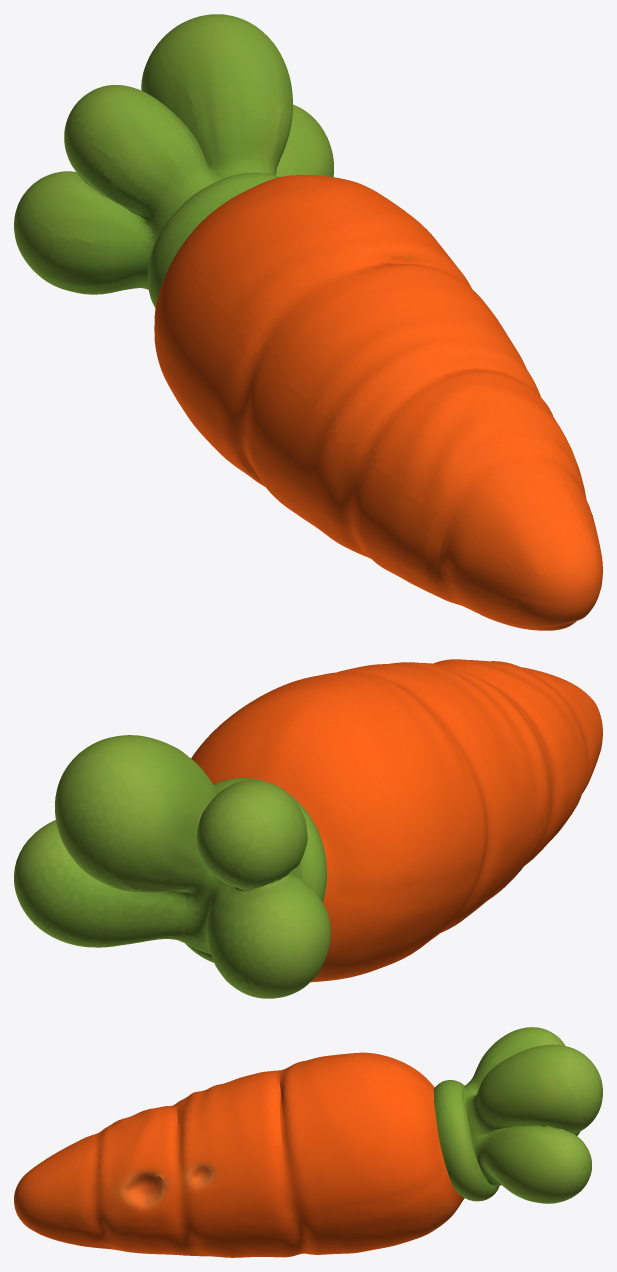
Rendered from Meshy_AI_Playful_Carrot_1122025926_texture.glb.
3 renders of one model, top to bottom at view 1: azimuth 30°, elevation 25°; view 2: azimuth 150°, elevation 25°; view 3: azimuth 270°, elevation 25°, orthographic. The views are drawn at different scales.
Parts seen in each view (by area): view 1: Mesh0; view 2: Mesh0; view 3: Mesh0.
Boxes of the visible parts, x1,y1,x2,y2 form: Mesh0: (14, 14, 602, 630); Mesh0: (14, 659, 602, 998); Mesh0: (14, 1027, 602, 1257).
Bounding box in the file's own units: 0.7339 × 0.7671 × 1.9.
1 material, 1 textured.
